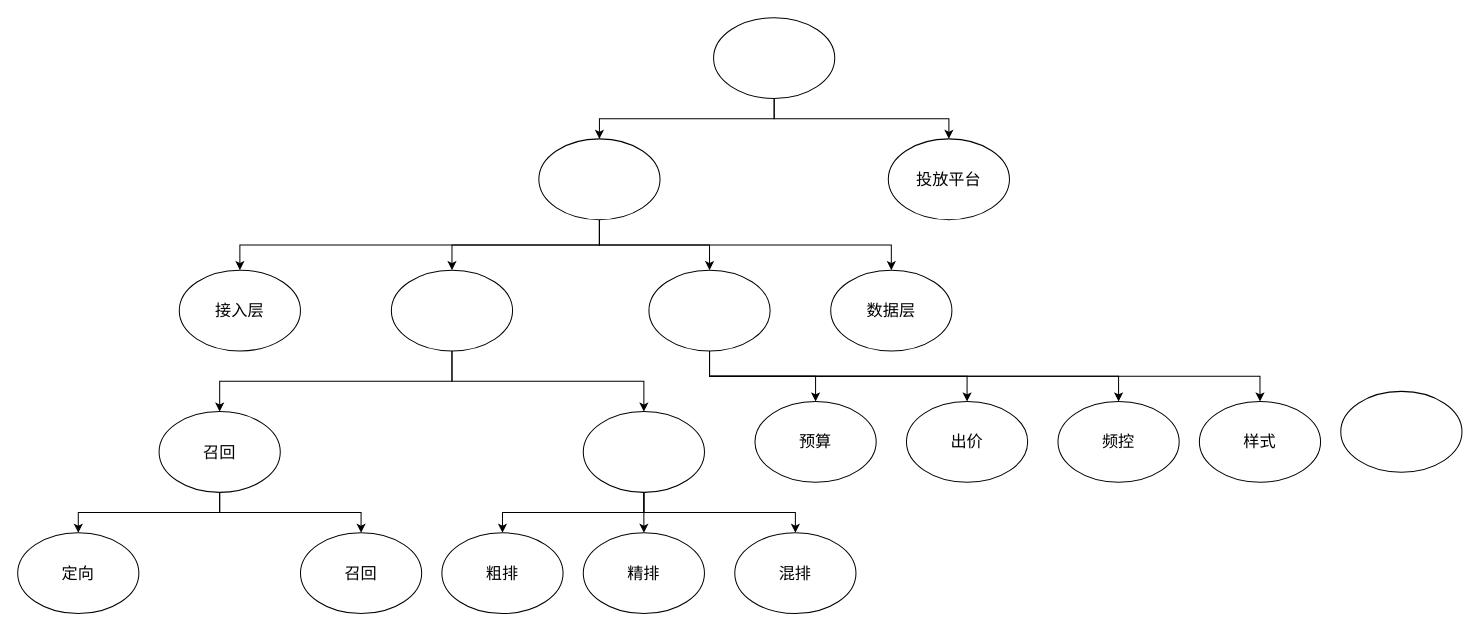
Image size: 1480x631. Some labels were removed from this diagram. Each missing label, with the centre of its shape:
在线引擎: the point at 599,179
广告业务: the point at 774,57
排序: the point at 643,451
支撑层: the point at 709,310
智能托管: the point at 1401,431
检索层: the point at 451,310
